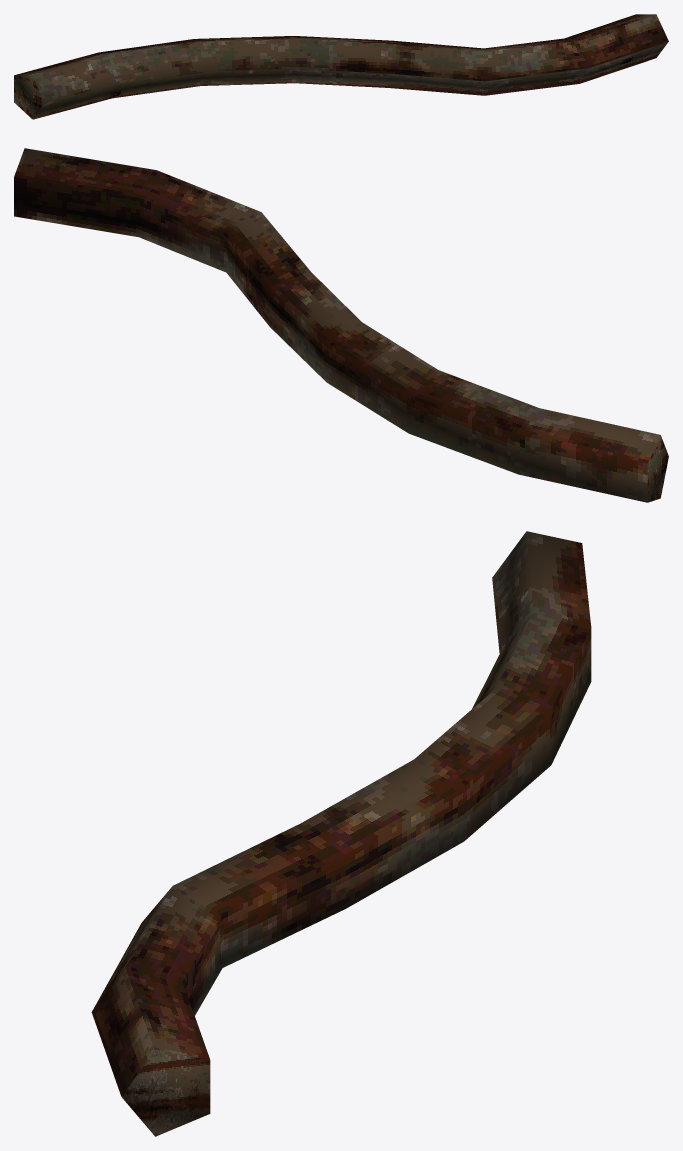
Rendered from rebar.glb.
The picture shows the model from 3 angles, top to bottom: view 1: azimuth 30°, elevation 25°; view 2: azimuth 150°, elevation 25°; view 3: azimuth 270°, elevation 25°; orthographic projection. The views are drawn at different scales.
Visible parts, largest first — view 1: Rebar; view 2: Rebar; view 3: Rebar.
Part boxes in pixels (box(x1,y1,x2,y2)): Rebar: box(14, 14, 668, 119); Rebar: box(14, 148, 668, 502); Rebar: box(91, 531, 591, 1136).
Bounding box in the file's own units: 1.09 × 0.0843 × 0.4362.
Materials: 1 (1 with a texture image).
